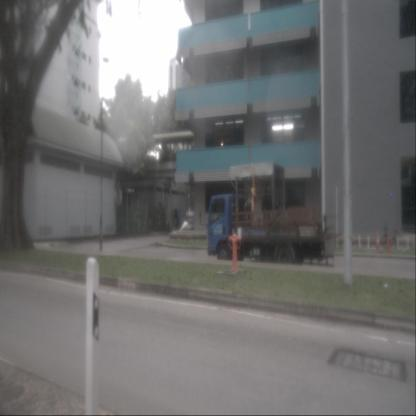cone: (386, 234, 391, 252), (376, 235, 380, 252)
